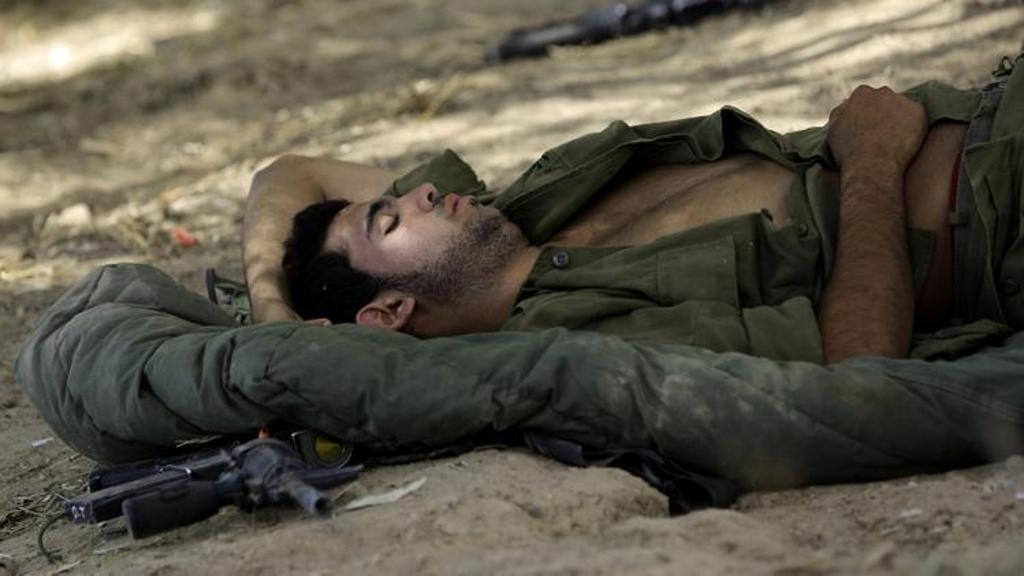face: (325, 179, 497, 273)
